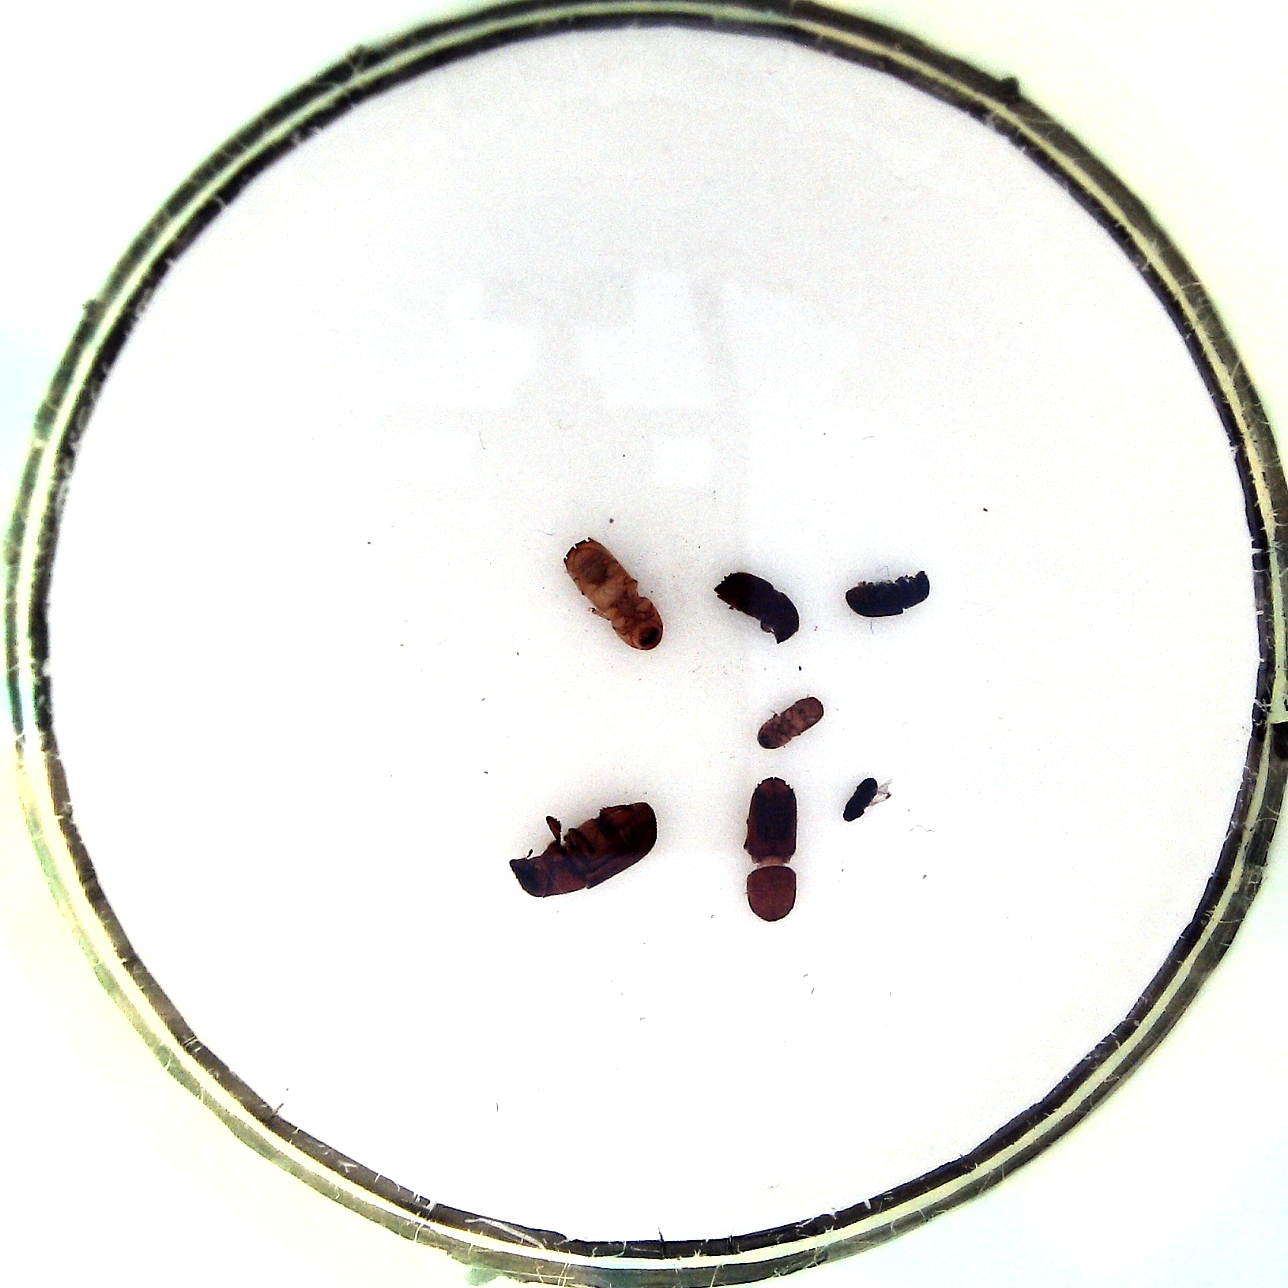Boerner: (561, 532, 664, 655), (741, 771, 806, 925)
Leconte: (508, 797, 662, 899)
Linnaeus: (712, 569, 806, 643)
acuminatus: (754, 694, 824, 753)
armandi: (845, 569, 939, 620)
coleoptera: (837, 773, 895, 824)
